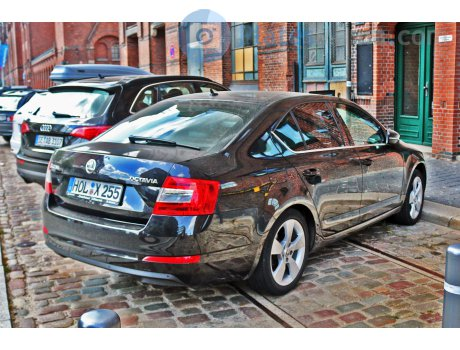License Plates: (64, 175, 122, 196), (92, 177, 98, 183)
